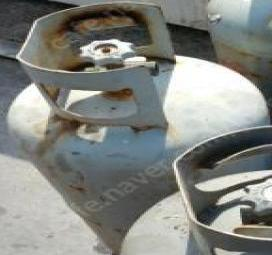cylinder: (1, 1, 272, 255)
